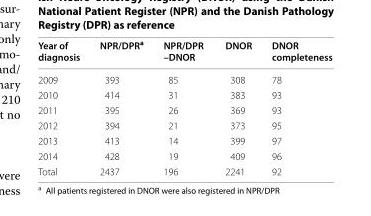table: (37, 37, 331, 176)
table column: (261, 37, 331, 176), (89, 37, 152, 176), (152, 37, 213, 176), (37, 37, 89, 176), (213, 37, 261, 176)
table column header: (37, 37, 331, 67)
table row: (37, 37, 331, 67), (37, 67, 331, 86), (37, 86, 331, 102), (37, 132, 331, 148), (37, 102, 331, 117), (37, 117, 331, 132), (37, 148, 331, 163), (37, 163, 331, 176)
